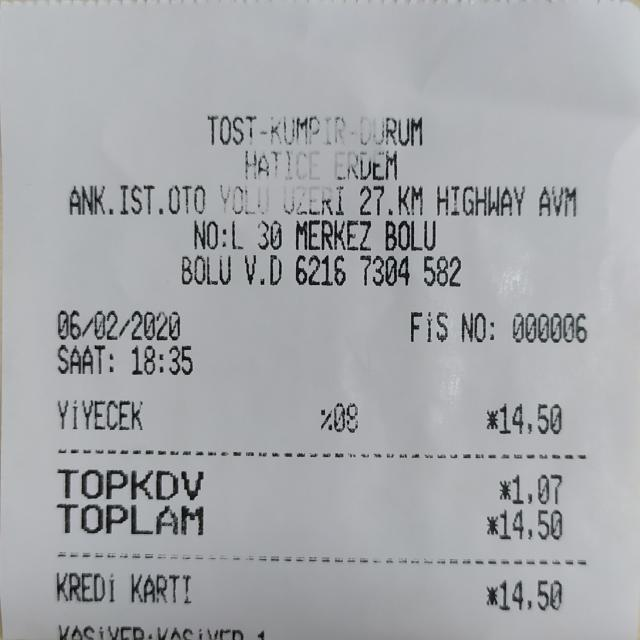text: (57, 463, 203, 503), (56, 499, 202, 539), (57, 306, 179, 342), (437, 181, 524, 217), (120, 180, 204, 216), (58, 395, 142, 431), (296, 216, 370, 252), (511, 310, 587, 344), (246, 149, 329, 180), (272, 112, 345, 143), (280, 183, 350, 215), (360, 181, 422, 217), (131, 343, 191, 377), (356, 115, 426, 144), (334, 149, 397, 181), (499, 579, 562, 611), (131, 570, 190, 604), (499, 402, 561, 434), (500, 508, 562, 540), (57, 570, 114, 604), (360, 251, 409, 288), (182, 251, 230, 288), (296, 251, 344, 288), (385, 216, 434, 252), (208, 112, 258, 146), (219, 182, 268, 216), (57, 342, 104, 377), (512, 473, 562, 504), (55, 624, 144, 640), (245, 251, 282, 288), (424, 251, 460, 288), (153, 625, 240, 640), (411, 308, 447, 344), (69, 180, 106, 215), (540, 182, 574, 218), (194, 215, 218, 251), (258, 216, 282, 251), (462, 309, 486, 344), (334, 401, 358, 432), (221, 215, 232, 251), (102, 180, 113, 215), (317, 407, 333, 431), (483, 310, 494, 344), (232, 215, 242, 251), (260, 112, 270, 146), (483, 584, 497, 606), (495, 480, 510, 500), (484, 408, 497, 430), (254, 628, 268, 640), (109, 343, 113, 376)
